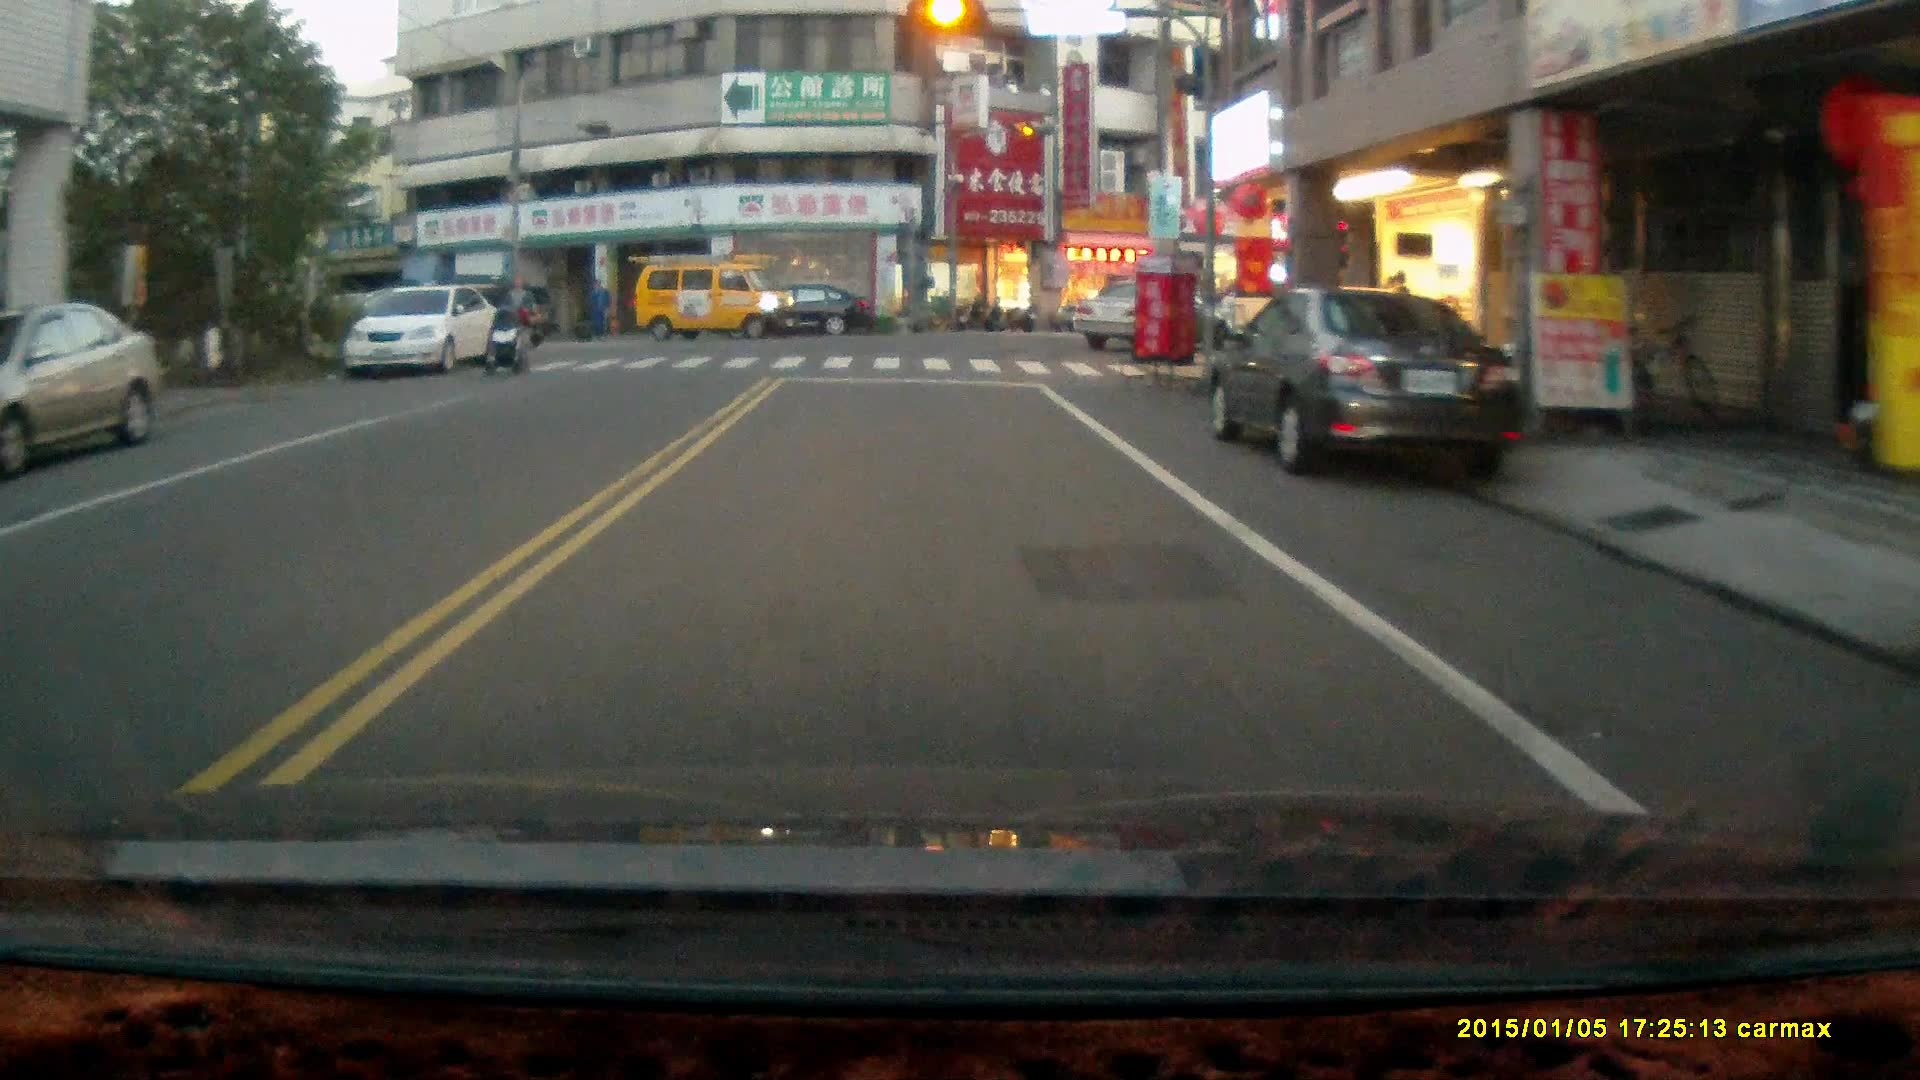pedestrian: (501, 272, 532, 357), (585, 276, 609, 337)
rider: (480, 306, 532, 376)
vehicle: (1207, 286, 1530, 488), (1, 300, 165, 479), (345, 285, 503, 381), (633, 254, 802, 342), (1067, 276, 1213, 351), (736, 282, 874, 340)
